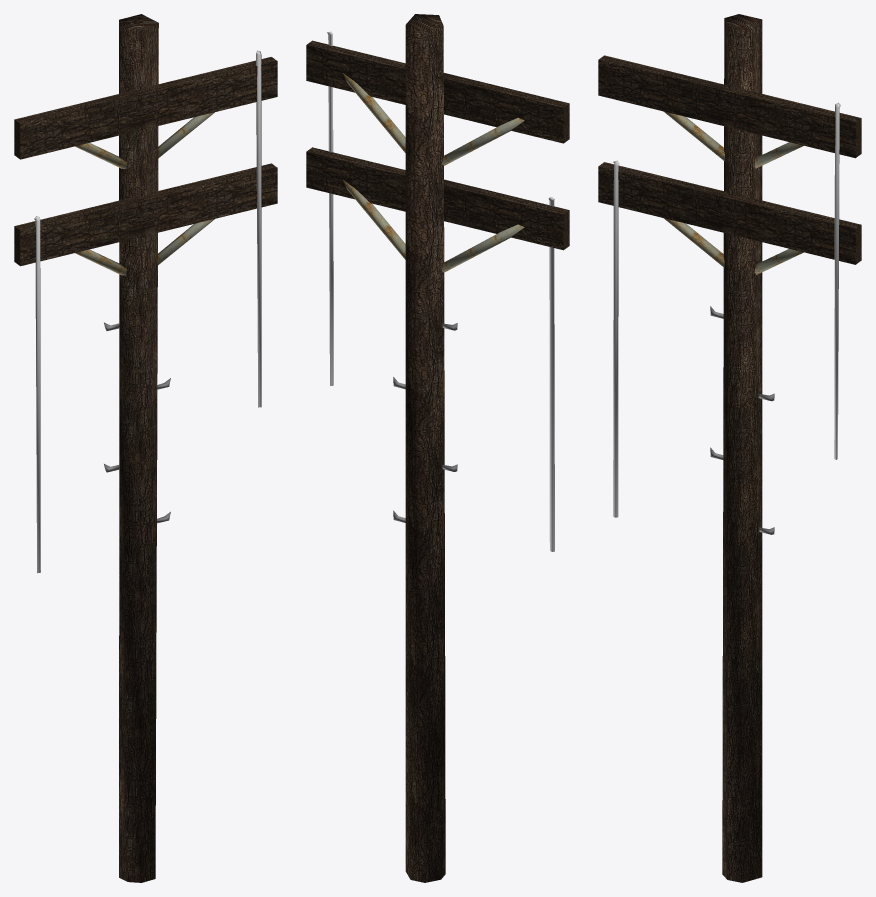
File: direkfbx.fbx
3 views of the same model, side by side, from view 1: azimuth 30°, elevation 25°; view 2: azimuth 150°, elevation 25°; view 3: azimuth 330°, elevation 25° (orthographic).
Visible parts, largest first — view 1: Cylinder001, Box001, Box002, Loft002, Loft001, Cylinder003, Cylinder005; view 2: Cylinder001, Box001, Box002, Loft001, Loft002, Cylinder003, Cylinder005, Cylinder002, Cylinder004; view 3: Cylinder001, Box001, Box002, Loft001, Loft002, Cylinder002, Cylinder004.
Boxes of the visible parts, <box> form: Cylinder001: <box>119,14,158,882</box>; Box001: <box>14,57,277,159</box>; Box002: <box>14,163,277,266</box>; Loft002: <box>256,50,261,407</box>; Loft001: <box>34,216,40,573</box>; Cylinder003: <box>158,112,214,158</box>; Cylinder005: <box>158,219,214,265</box>; Cylinder001: <box>405,14,445,882</box>; Box001: <box>306,40,569,143</box>; Box002: <box>306,147,569,250</box>; Loft001: <box>548,197,554,551</box>; Loft002: <box>327,31,333,385</box>; Cylinder003: <box>343,73,405,152</box>; Cylinder005: <box>343,180,405,259</box>; Cylinder002: <box>441,117,524,165</box>; Cylinder004: <box>441,224,524,272</box>; Cylinder001: <box>722,14,762,882</box>; Box001: <box>598,55,861,158</box>; Box002: <box>598,162,861,264</box>; Loft001: <box>613,160,619,517</box>; Loft002: <box>834,102,840,459</box>; Cylinder002: <box>663,111,724,161</box>; Cylinder004: <box>664,218,724,267</box>.
Bounding box in the file's own units: 76.2 × 241 × 12.52.
